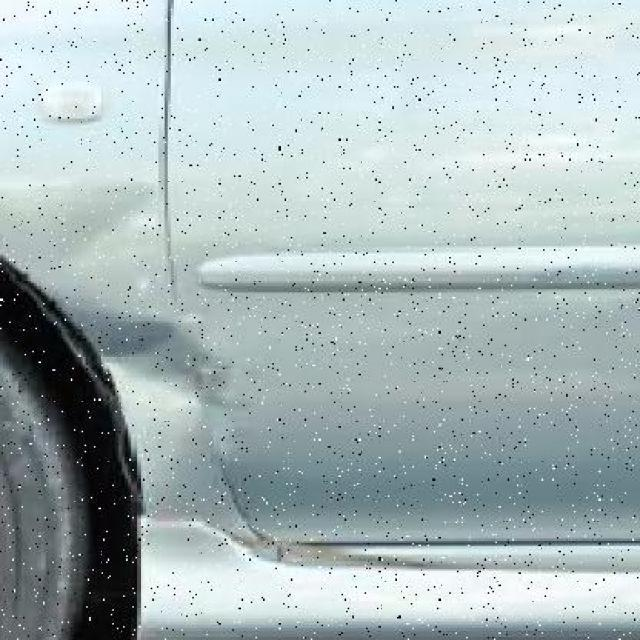car damage: (61, 297, 227, 544)
